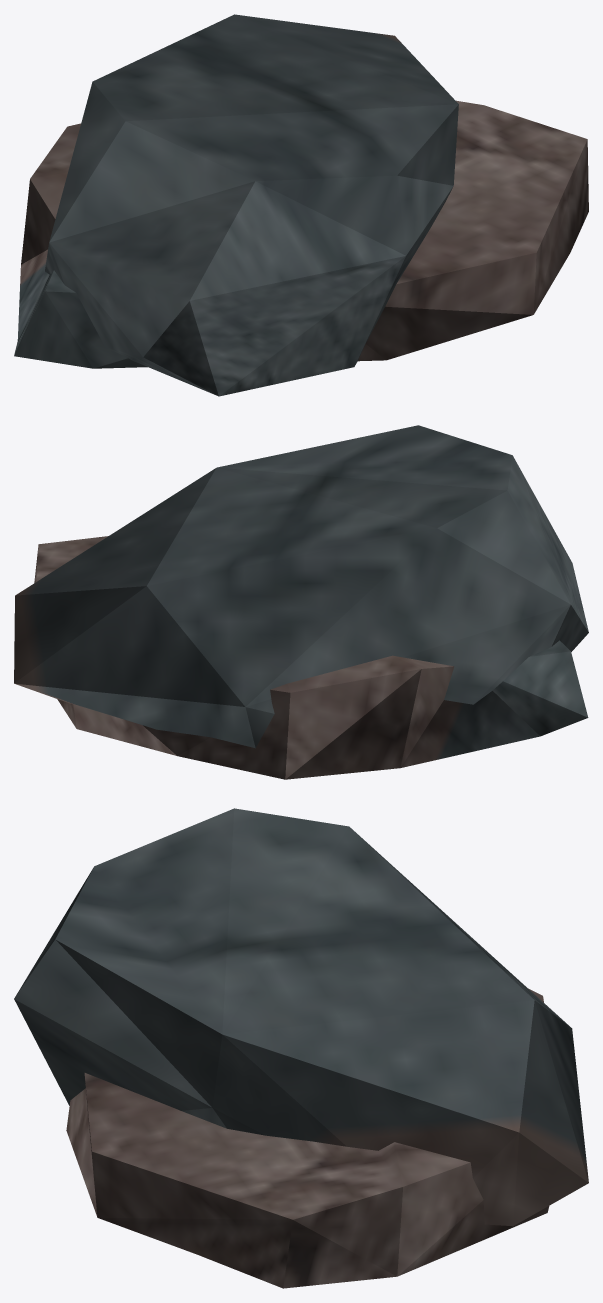
The model's file is Bf01g_rock.fbx.
3 views of the same model, one above another, from view 1: azimuth 30°, elevation 25°; view 2: azimuth 150°, elevation 25°; view 3: azimuth 270°, elevation 25° (orthographic). The views are drawn at different scales.
Visible parts, largest first — view 1: rock_a, rock_b; view 2: rock_a, rock_b; view 3: rock_a, rock_b.
Boxes of the visible parts, x1,y1,x2,y2 form: rock_a: [45, 14, 458, 396]; rock_b: [14, 100, 588, 368]; rock_a: [14, 425, 588, 748]; rock_b: [34, 536, 588, 779]; rock_a: [14, 808, 588, 1226]; rock_b: [66, 988, 549, 1288].
Bounding box in the file's own units: 6.45 × 2.42 × 5.25.
1 material, 1 textured.
